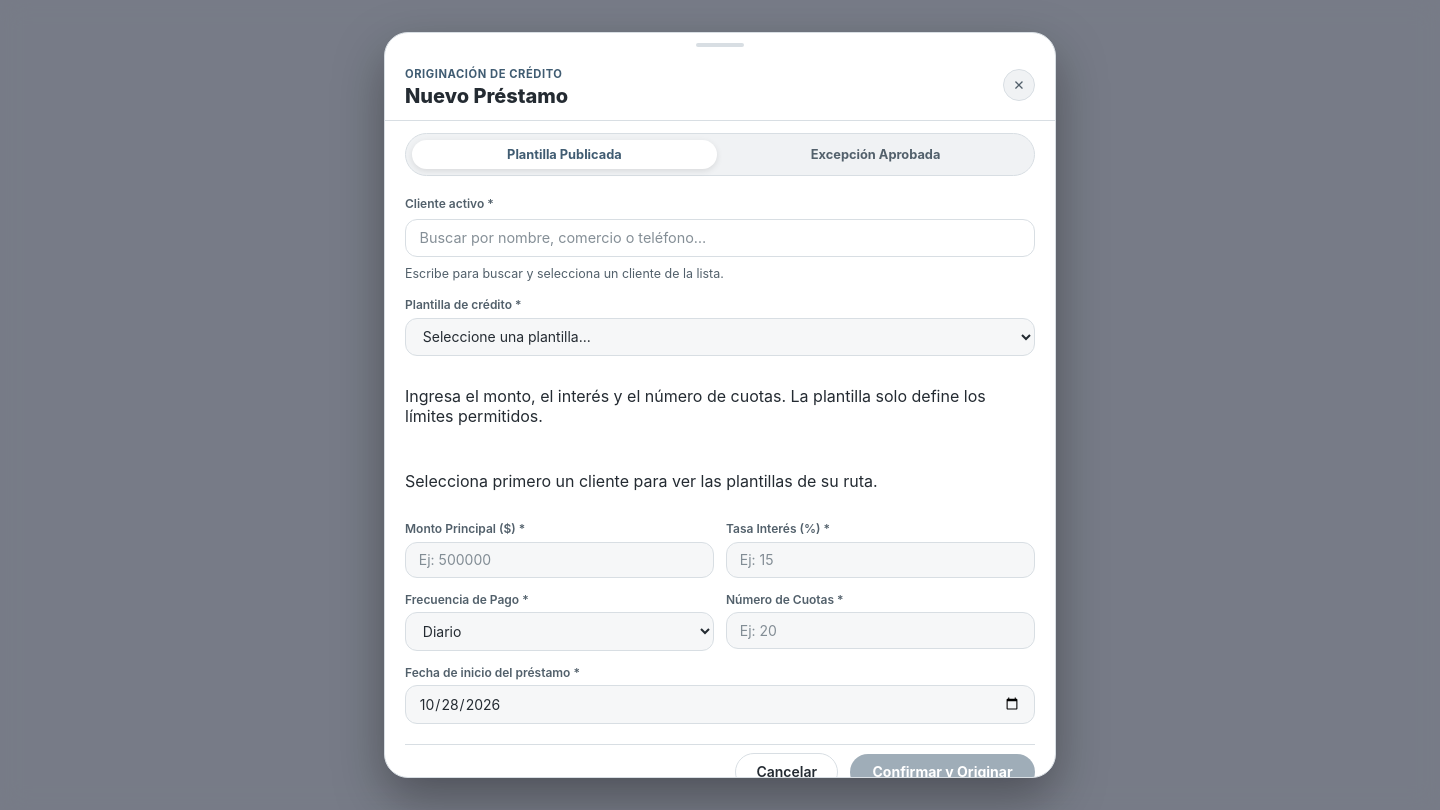
Test: LoanOriginationModalComponent › filters names without accents and selects an actual customer with the keyboard
The width and height of the screenshot is (1440, 810).
Type "perez" into the dropdown labelled "Cliente activo *" at (720, 238), box [405,218,1035,257]
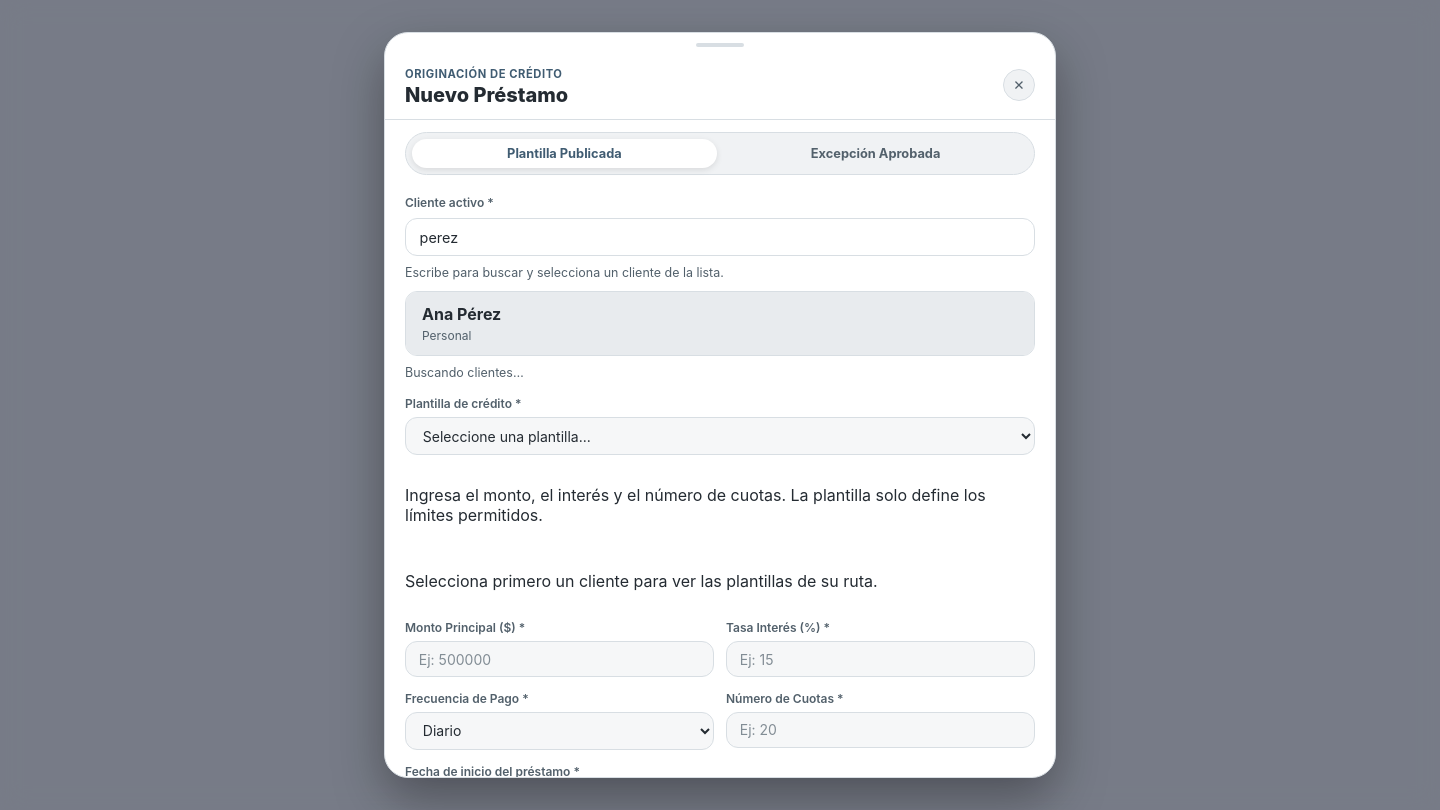
Expected: the dropdown labelled "Cliente activo *" is expanded
Press Enter in the dropdown labelled "Cliente activo *", box [405,218,1035,256]
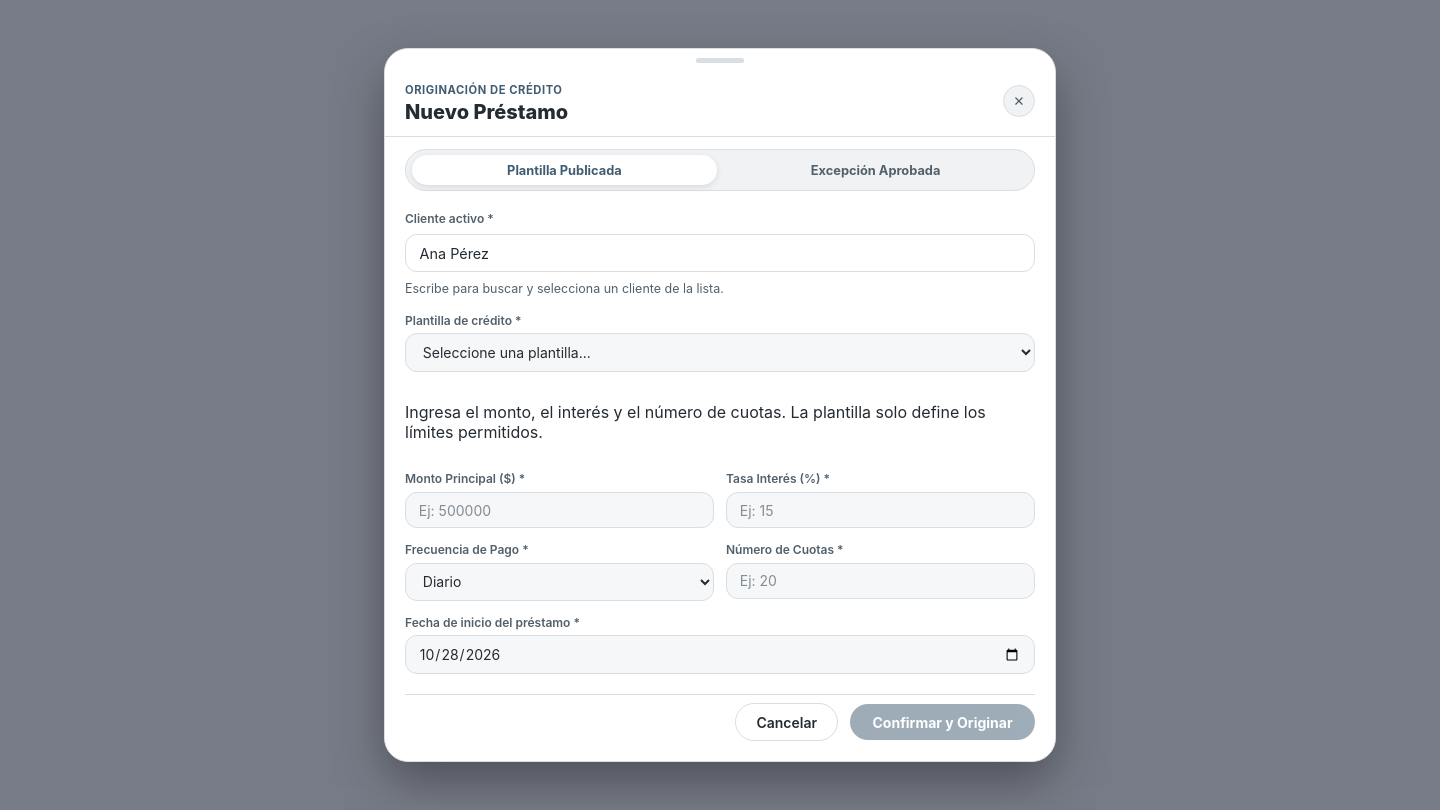
Expected: the dropdown labelled "Cliente activo *" holds "Ana Pérez", [405,234,1035,272]
